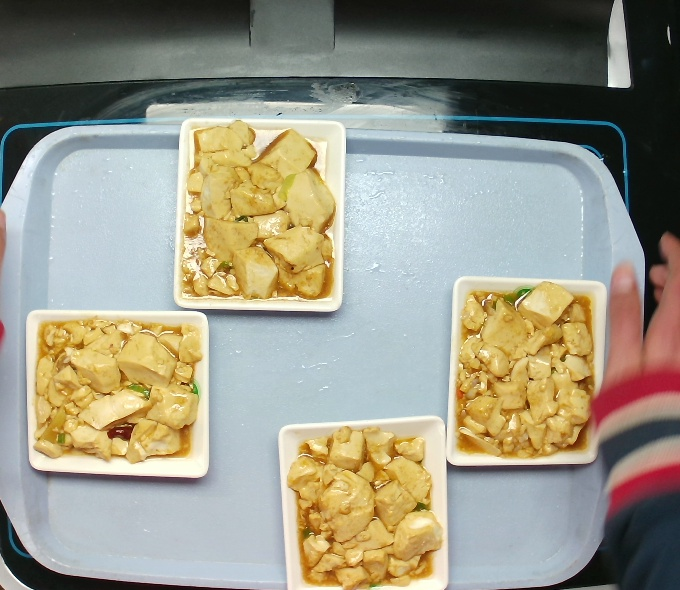wcq-DouFu: (179, 114, 332, 316), (449, 285, 613, 458), (26, 313, 200, 471), (292, 423, 433, 587)
